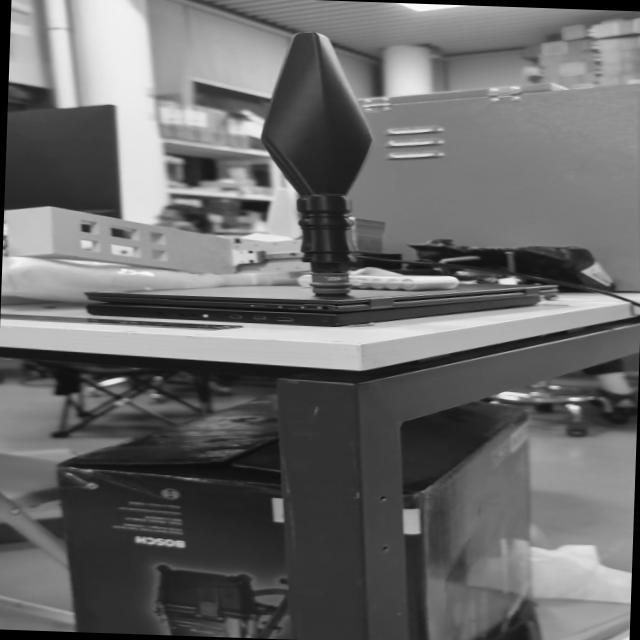base: (309, 271, 353, 296)
